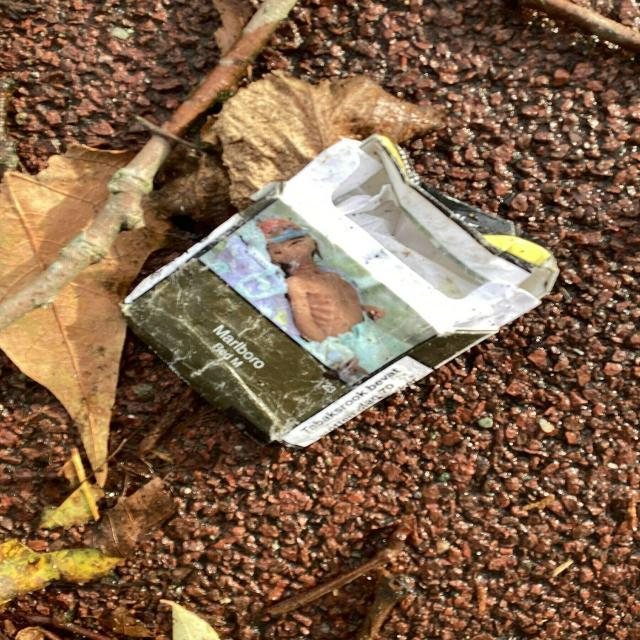Paper: (114, 127, 564, 452)
